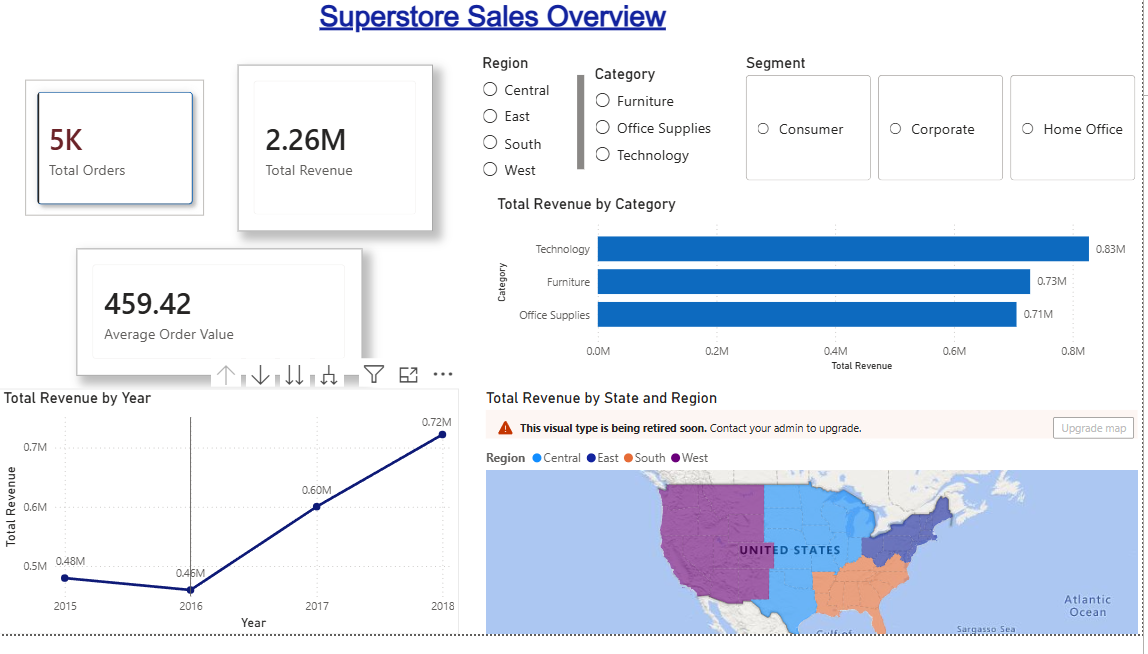

This screenshot's page, from the dashboard's own definition file:
{"tool":"powerbi","page":{"name":"Page 1","canvas":[1280,720],"ordinal":0},"visuals":[{"type":"cardVisual","fields":{"Data":["train.Total Revenue"]},"box":[267.6,82.3,218.2,186.6],"z":0},{"type":"cardVisual","fields":{"Data":["train.Total Orders"]},"box":[12.3,82.3,234.6,186.6],"z":1000},{"type":"cardVisual","fields":{"Data":["train.Average Order Value"]},"box":[86.4,288.2,319.7,142.7],"z":2000},{"type":"lineChart","fields":{"Category":["train.Order Date.Variation.Date Hierarchy.Year","train.Order Date.Variation.Date Hierarchy.Quarter","train.Order Date.Variation.Date Hierarchy.Month","train.Order Date.Variation.Date Hierarchy.Day"],"Y":["train.Total Revenue"]},"box":[0,444.6,514.6,275.8],"z":3000},{"type":"filledMap","fields":{"Category":["train.State"],"Series":["train.Region"]},"box":[540.7,444.6,739.6,275.8],"z":5000},{"type":"listSlicer","fields":{"Values":["train.Category"]},"box":[661.4,82.3,179.8,134.5],"z":6000},{"type":"listSlicer","fields":{"Values":["train.Region"]},"box":[536.5,70,124.9,146.8],"z":7000},{"type":"advancedSlicerVisual","fields":{"Values":["train.Segment"]},"box":[831.6,70,448.7,148.2],"z":8000},{"type":"textbox","box":[336.2,0,433.6,70],"z":9000},{"type":"clusteredBarChart","fields":{"Category":["train.Category"],"Y":["train.Total Revenue"]},"box":[552.4,227.9,727.8,203],"z":9001}]}

Visuals, with their boxes in screenshot pixels (x1, y1, x2, y2), scaled from the page's 1280x720 canvas onto the 1148x654 screenshot:
cardVisual - train.Total Revenue: (left=240, top=75, right=436, bottom=244)
cardVisual - train.Total Orders: (left=11, top=75, right=221, bottom=244)
cardVisual - train.Average Order Value: (left=77, top=262, right=364, bottom=391)
lineChart - train.Order Date.Variation.Date Hierarchy.Year x train.Order Date.Variation.Date Hierarchy.Quarter: (left=0, top=404, right=462, bottom=653)
filledMap - train.State x train.Region: (left=485, top=404, right=1147, bottom=653)
listSlicer - train.Category: (left=593, top=75, right=754, bottom=197)
listSlicer - train.Region: (left=481, top=64, right=593, bottom=197)
advancedSlicerVisual - train.Segment: (left=746, top=64, right=1147, bottom=198)
textbox: (left=302, top=0, right=690, bottom=64)
clusteredBarChart - train.Category x train.Total Revenue: (left=495, top=207, right=1147, bottom=391)
